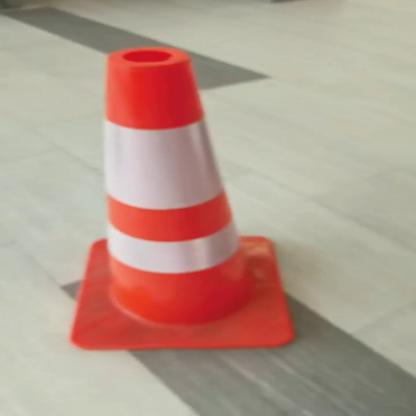cone: (41, 41, 312, 351)
